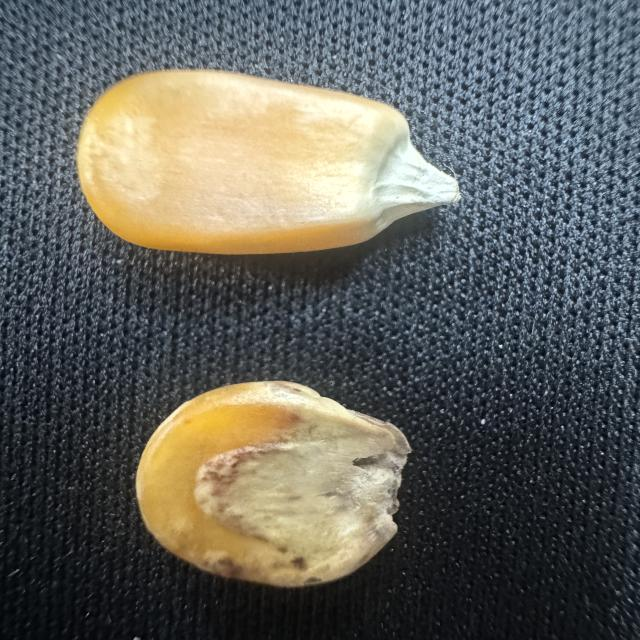Bad-Seed: (119, 366, 426, 594)
Good-Seed: (70, 62, 465, 260)
